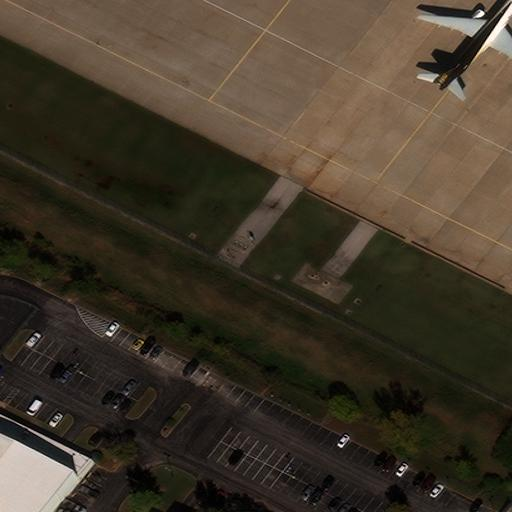Large Civil Transport: (420, 0, 512, 88)
